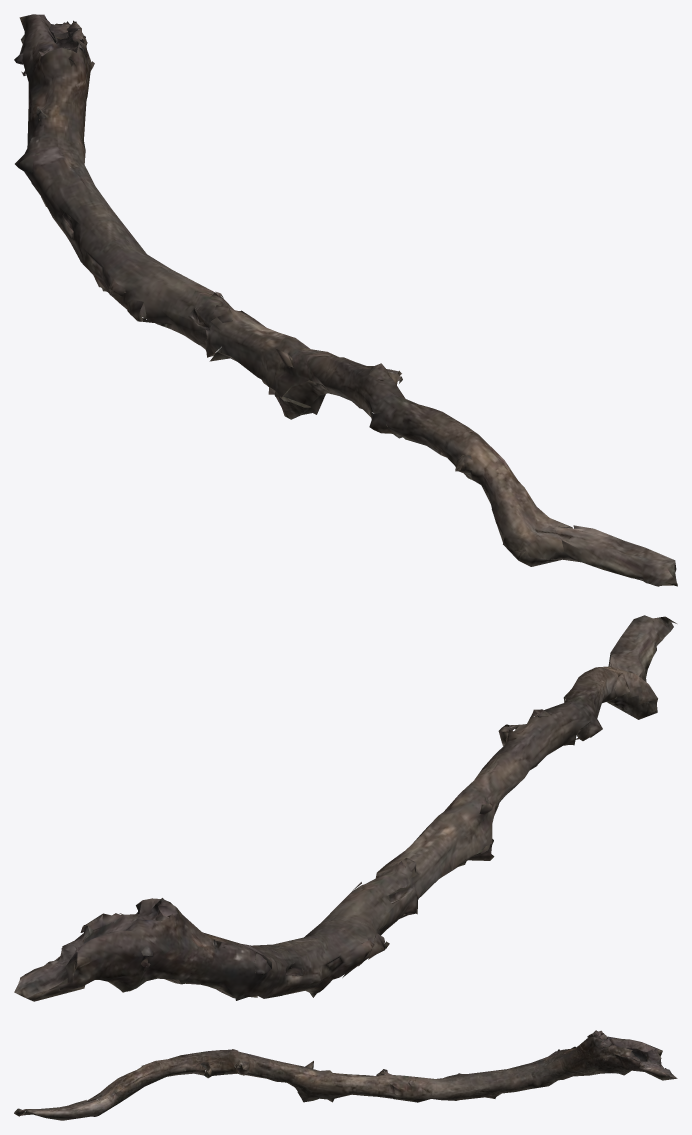
File: dry_branches_medium_01_b.glb
The picture shows the model from 3 angles, top to bottom: view 1: azimuth 30°, elevation 25°; view 2: azimuth 150°, elevation 25°; view 3: azimuth 270°, elevation 25°; orthographic projection. The views are drawn at different scales.
Parts seen in each view (by area): view 1: dry_branches_medium_01_b; view 2: dry_branches_medium_01_b; view 3: dry_branches_medium_01_b.
Part boxes in pixels (left/top/right/bottom): dry_branches_medium_01_b: left=14, top=14, right=677, bottom=586; dry_branches_medium_01_b: left=14, top=615, right=676, bottom=1001; dry_branches_medium_01_b: left=14, top=1030, right=677, bottom=1120.
Size of the model in its own units: 0.149 by 0.1413 by 1.04.
Materials: 1 (1 with a texture image).
